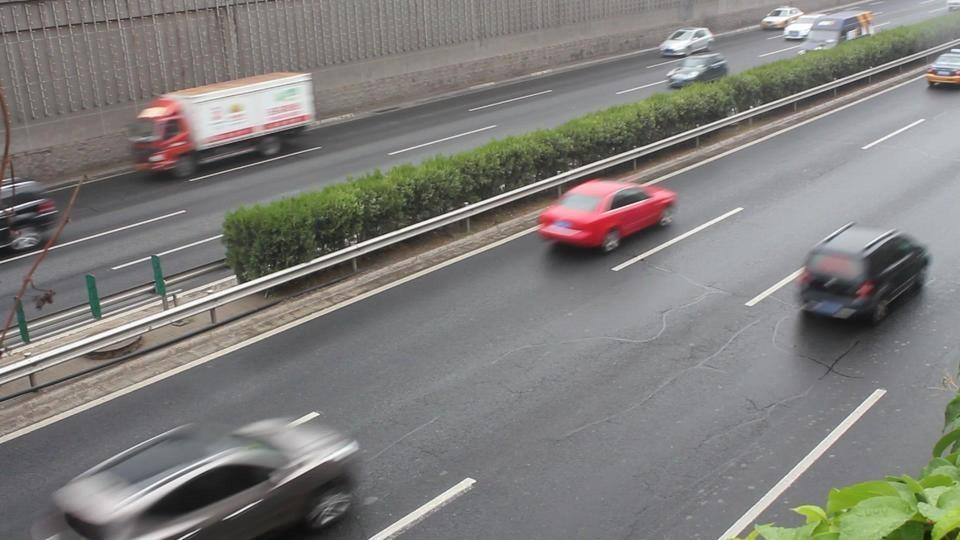car: (48, 409, 366, 538), (797, 221, 933, 325), (537, 178, 679, 254), (0, 178, 59, 255), (785, 11, 872, 47), (666, 53, 729, 90), (658, 27, 714, 57), (924, 51, 960, 90), (783, 14, 834, 41), (760, 6, 804, 30)
